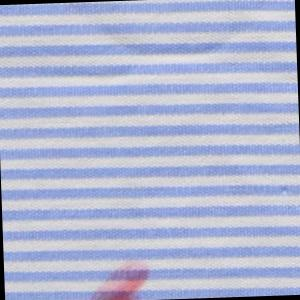Stain: (81, 251, 157, 300)
